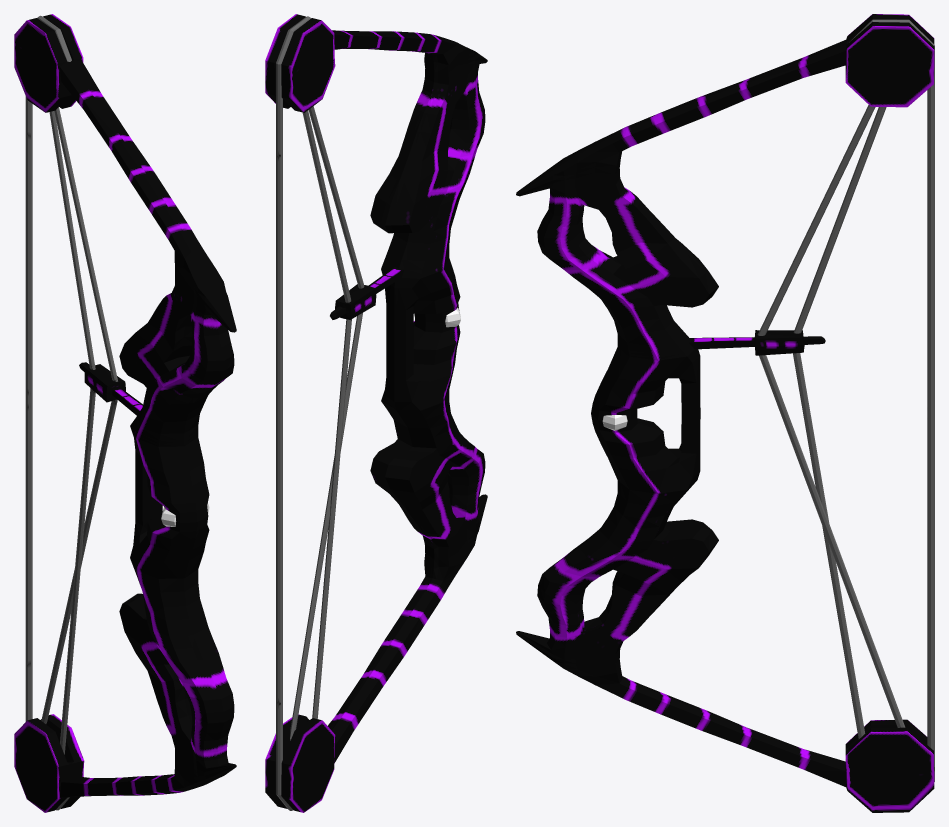
The model's file is bow.obj.
3 views of the same model, side by side, from view 1: azimuth 30°, elevation 25°; view 2: azimuth 150°, elevation 25°; view 3: azimuth 270°, elevation 25° (orthographic).
Visible parts, largest first — view 1: Cylinder; view 2: Cylinder; view 3: Cylinder.
Part boxes in pixels (x1,y1,x2,y2): Cylinder: (14, 14, 236, 812); Cylinder: (265, 14, 487, 812); Cylinder: (516, 14, 934, 812).
Size of the model in its own units: 0.3403 by 4.49 by 2.16.
Materials: 1 (1 with a texture image).
